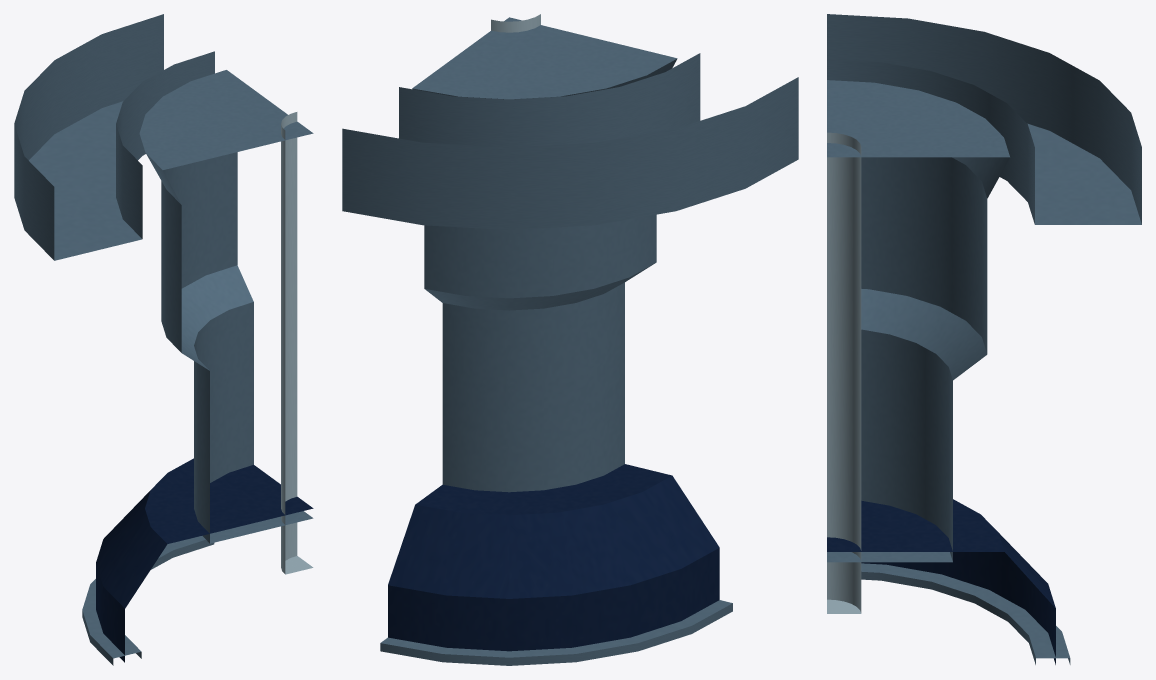
File: cell_8.obj
The picture shows the model from 3 angles, left to right: view 1: azimuth 30°, elevation 25°; view 2: azimuth 150°, elevation 25°; view 3: azimuth 270°, elevation 25°; orthographic projection. The views are drawn at different scales.
Parts seen in each view (by area): view 1: cell_8; view 2: cell_8; view 3: cell_8.
Part boxes in pixels (<box>): cell_8: <box>14,14,313,665</box>; cell_8: <box>342,14,798,665</box>; cell_8: <box>827,14,1141,664</box>.
Bounding box in the file's own units: 0.55 × 1 × 0.55.
